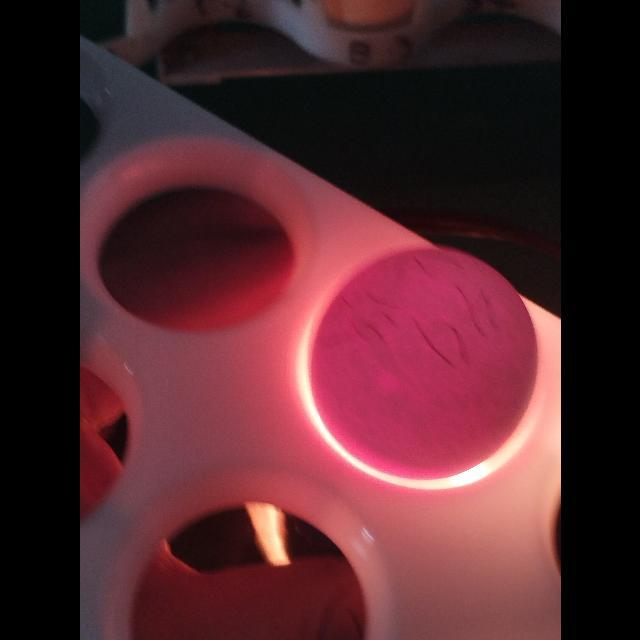Infertile: (303, 242, 542, 486)
